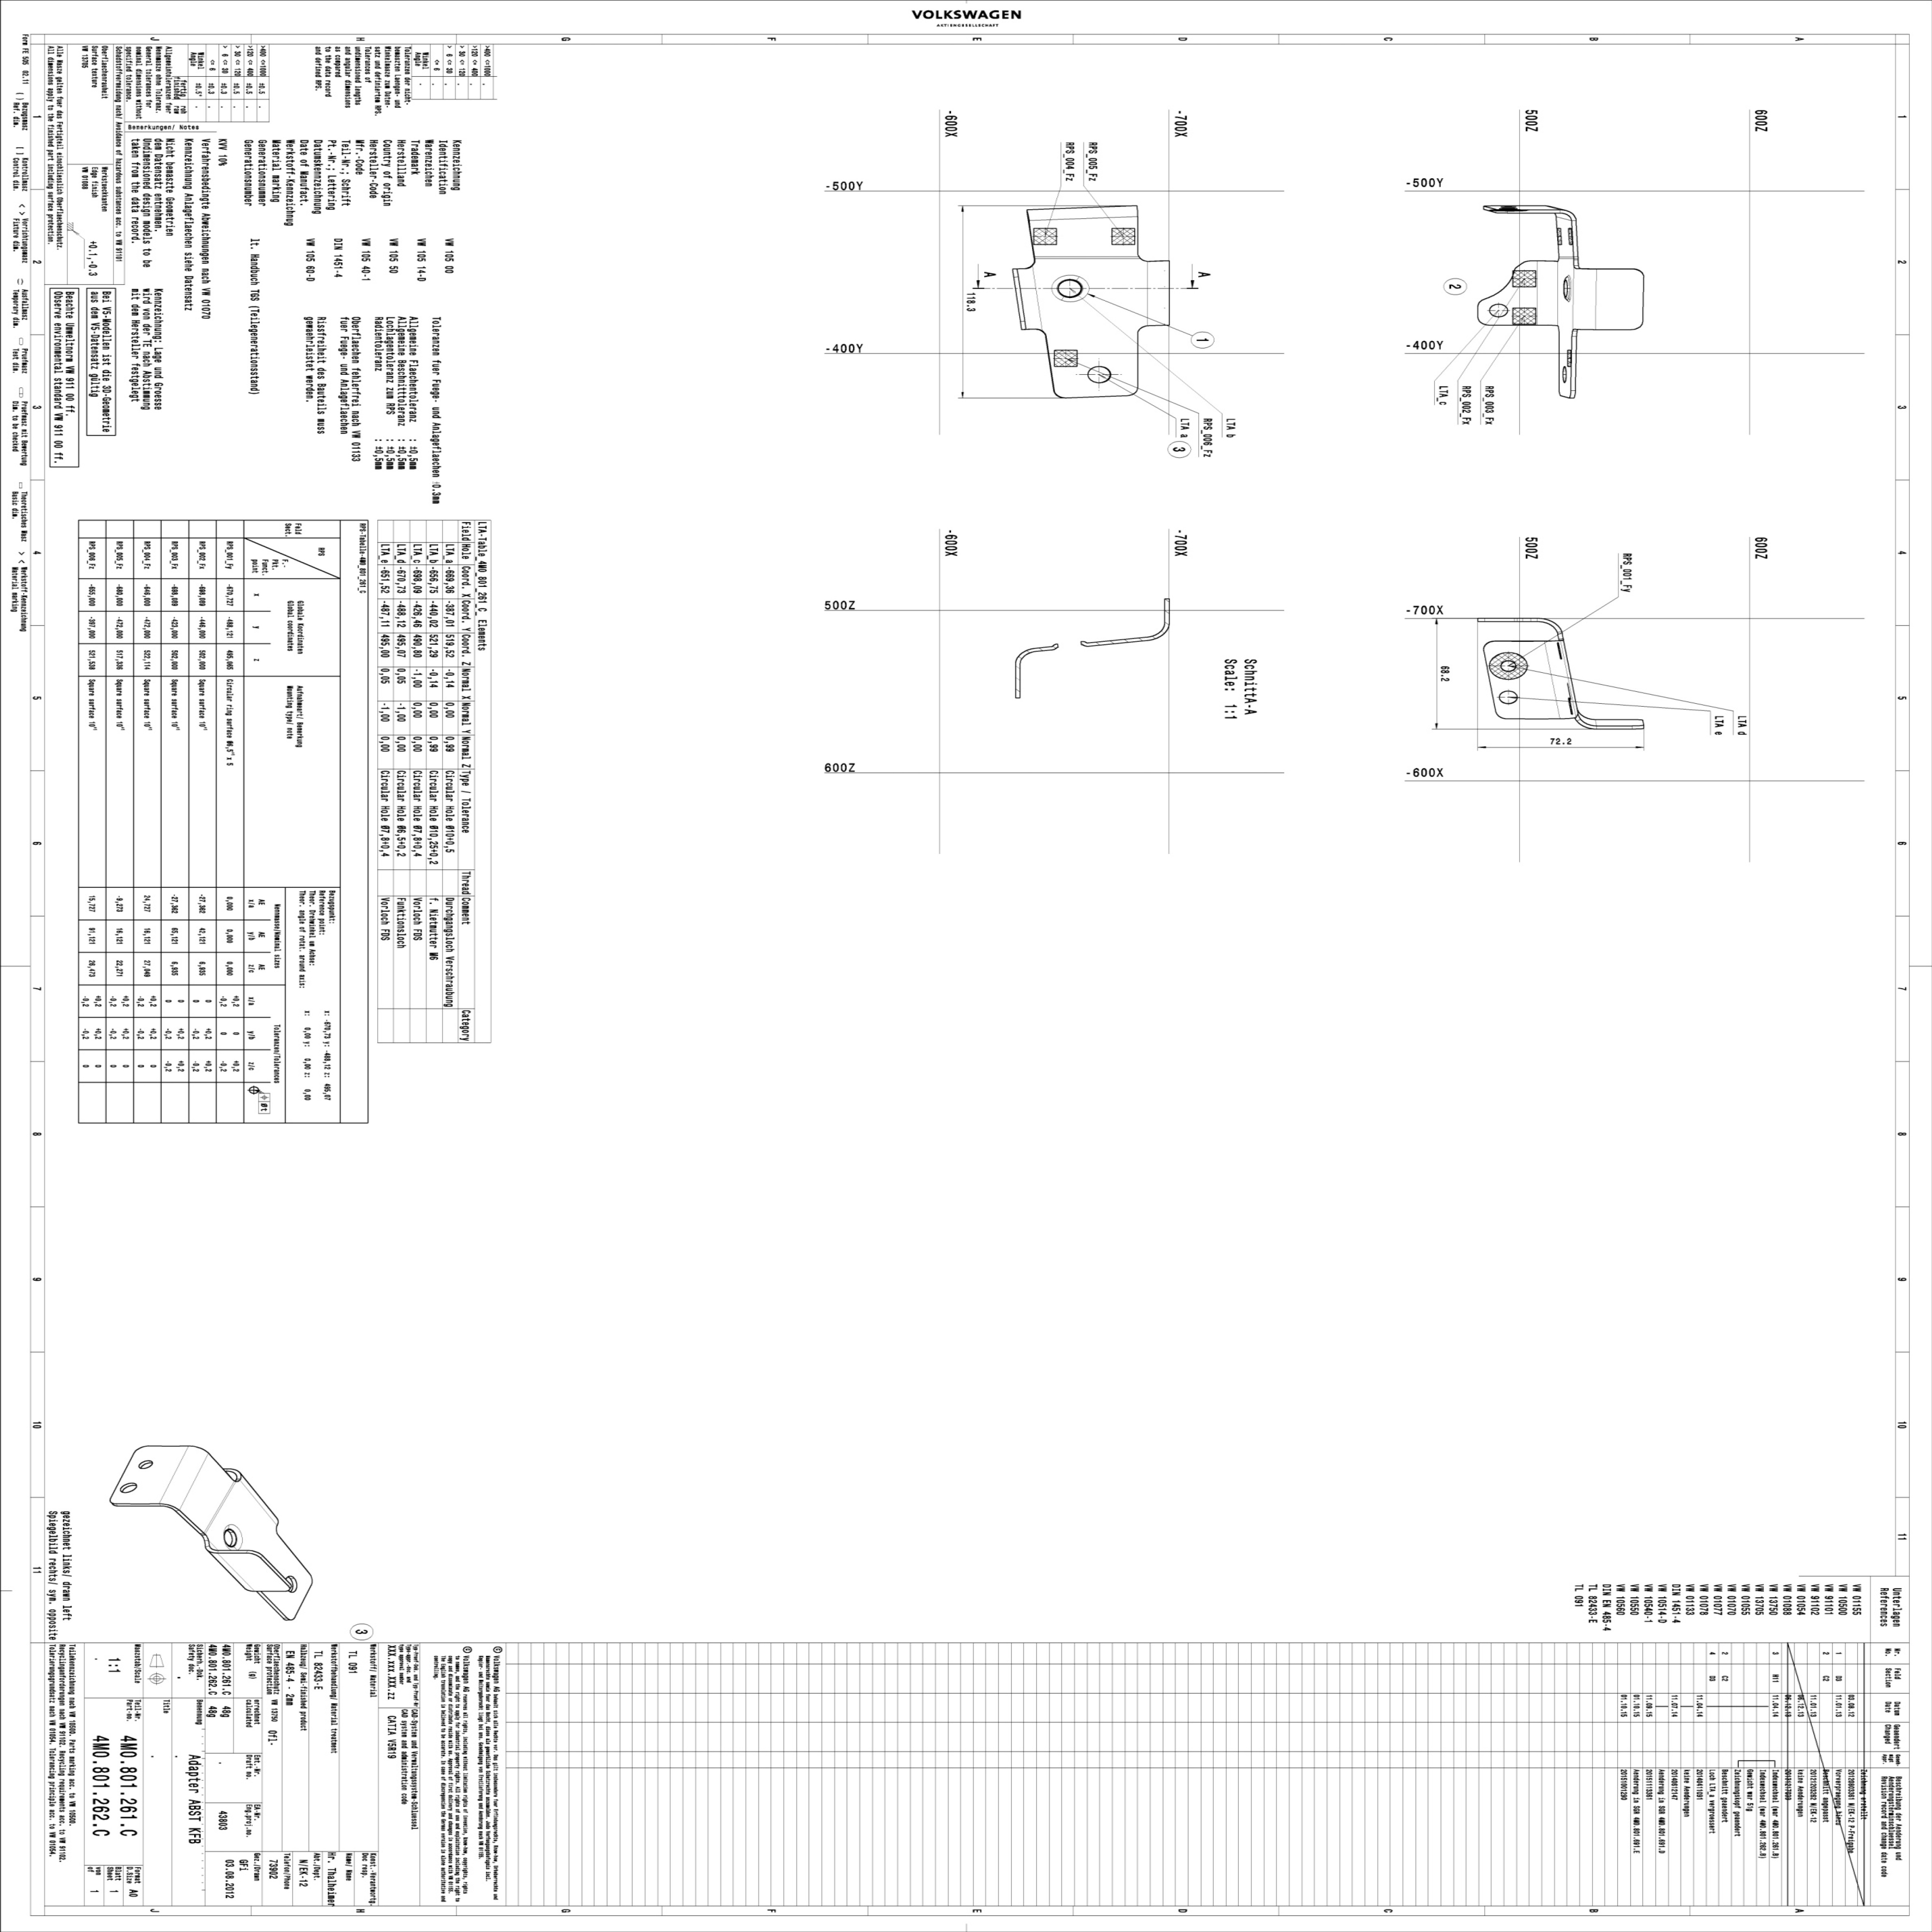BendingEdge: (157, 1440, 212, 1513), (1543, 640, 1576, 717), (203, 1479, 239, 1534), (1017, 269, 1044, 329), (1573, 269, 1598, 329), (1536, 262, 1559, 326), (1148, 264, 1168, 324), (1033, 255, 1141, 262)
BendingEdgeCurve: (1537, 616, 1564, 635), (1557, 209, 1578, 223), (1576, 717, 1598, 731)
InnerContour: (1085, 364, 1115, 386), (1486, 303, 1509, 318), (1497, 690, 1520, 704), (285, 1573, 299, 1594), (136, 1458, 156, 1470), (119, 1481, 138, 1493), (1560, 364, 1568, 384)
ThroughHole: (1049, 274, 1093, 304), (1488, 649, 1529, 681), (221, 1520, 244, 1552)
ThroughHoleExternal: (1562, 274, 1571, 304)
